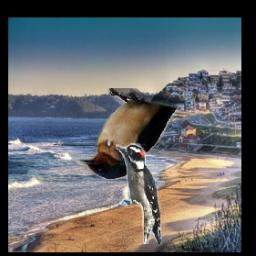Swallow: (79, 88, 179, 180)
Woodpecker: (117, 143, 163, 244)
